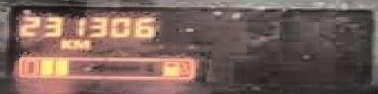0: (107, 16, 129, 37)
1: (69, 16, 84, 36)
2: (16, 14, 38, 35)
3: (40, 14, 60, 37), (87, 16, 107, 37)
6: (131, 16, 153, 37)
X: (71, 38, 89, 49), (57, 38, 71, 49)
